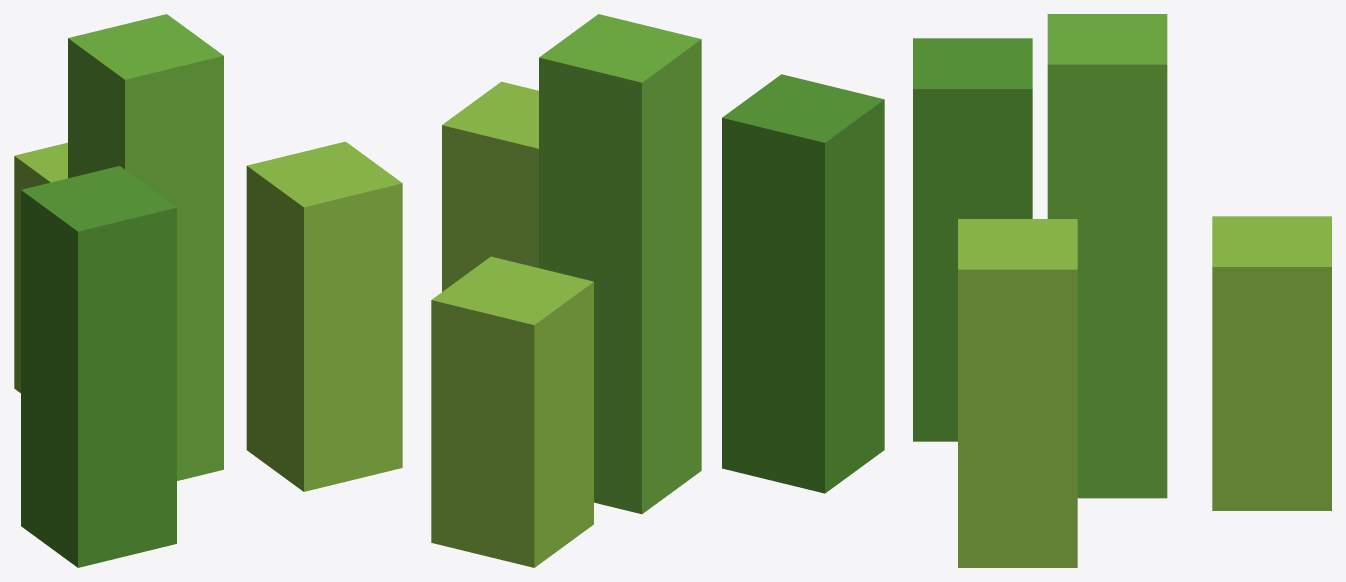
Rendered from GrassTuft.glb.
3 views of the same model, side by side, from view 1: azimuth 30°, elevation 25°; view 2: azimuth 150°, elevation 25°; view 3: azimuth 270°, elevation 25° (orthographic). The views are drawn at different scales.
Visible parts, largest first — view 1: GrassTuft; view 2: GrassTuft; view 3: GrassTuft.
Part boxes in pixels (x1,y1,x2,y2): GrassTuft: [14, 14, 402, 567]; GrassTuft: [431, 14, 884, 567]; GrassTuft: [913, 14, 1331, 567].
Bounding box in the file's own units: 1.4 × 1.6 × 1.4.
Materials: 1 (1 with a texture image).
